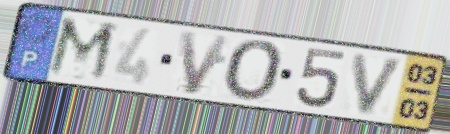4: (110, 27, 156, 88)
5: (295, 46, 350, 111)
M: (43, 14, 121, 86)
O: (222, 38, 288, 105)
V: (350, 51, 410, 118), (177, 29, 234, 97)
